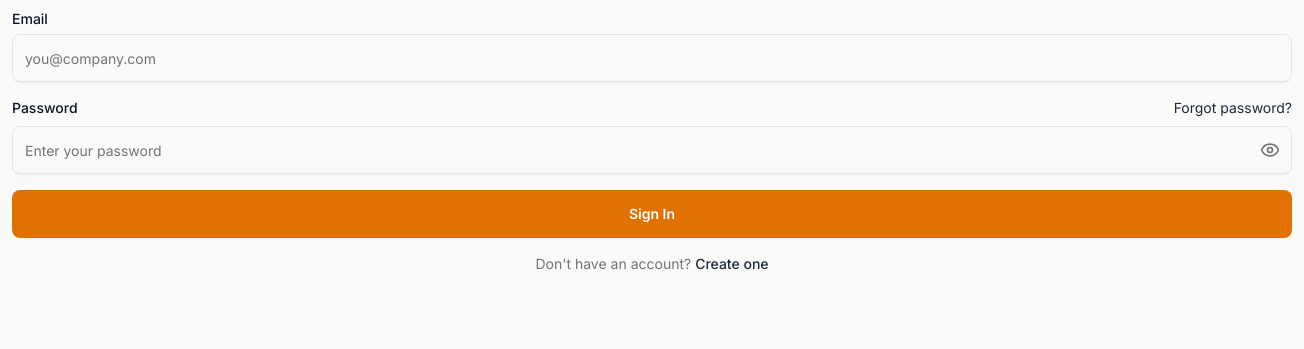
Test: LoginForm › Form Submission › should display network error message on fetch failure
Type "test@example.com" into the field labelled "Email" at (652, 58), box [12,34,1292,82]
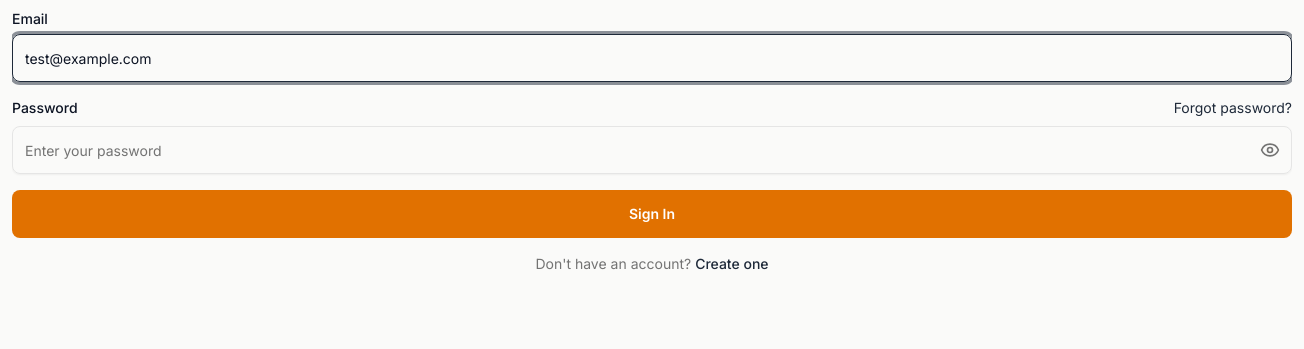
Type "password123" into the password field with placeholder "Enter your password" at (652, 150), box [12,126,1292,174]
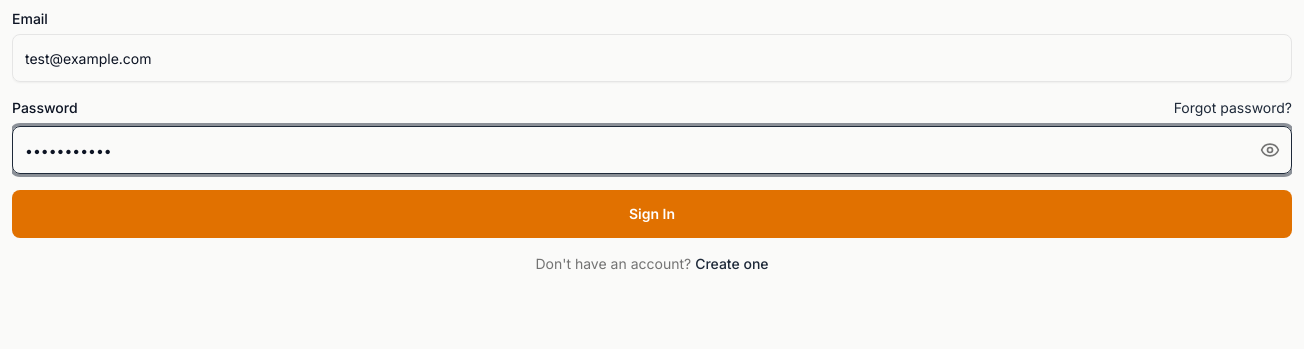
Click the button "Sign In" at (652, 214), box [12,190,1292,238]
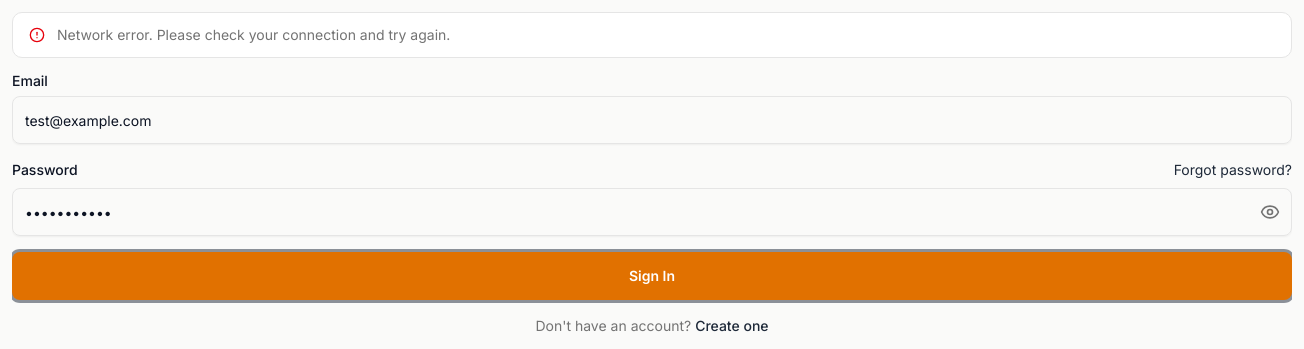
Check: the text "Network error. Please check your connection and try again." is shown, box [57,26,450,43]
